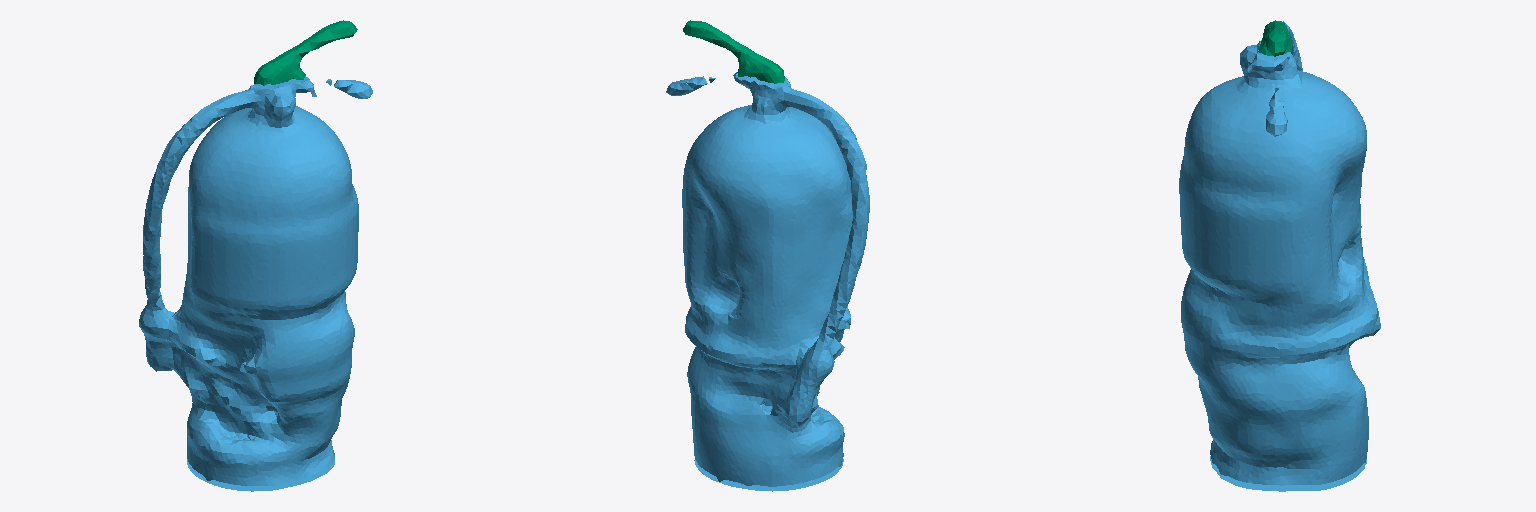
The robot description file, URDF, robot "object":
<?xml version='1.0' encoding='utf-8'?>
<robot name="object">
  <link name="base">
    <inertial>
      <origin xyz="0 0 0" rpy="0 0 0" />
      <mass value="0.0" />
      <inertia ixx="0" ixy="0" ixz="0" iyy="0" iyz="0" izz="0" />
    </inertial>
  </link>
  <link name="link_1">
    <visual>
      <origin xyz="0 0 0" rpy="0 0 0" />
      <geometry>
        <mesh filename="meshes/link_1.stl" />
      </geometry>
    </visual>
    <collision>
      <origin xyz="0 0 0" rpy="0 0 0" />
      <geometry>
        <mesh filename="meshes/link_1.stl" />
      </geometry>
    </collision>
    <inertial>
      <origin xyz="0.0103458504 -0.0473929552 0.726105831" rpy="0 0 0" />
      <mass value="354.952542" />
      <inertia ixx="-35.5537213" ixy="0.653095199" ixz="2.40081813" iyy="-34.6507365" iyz="2.27474612" izz="15.9813725" />
    </inertial>
  </link>
  <link name="link_2">
    <visual>
      <origin xyz="-0.0545027212 0.0553680067 -1.54244994" rpy="0 0 0" />
      <geometry>
        <mesh filename="meshes/link_2.stl" />
      </geometry>
    </visual>
    <collision>
      <origin xyz="-0.0545027212 0.0553680067 -1.54244994" rpy="0 0 0" />
      <geometry>
        <mesh filename="meshes/link_2.stl" />
      </geometry>
    </collision>
    <inertial>
      <origin xyz="0.0843133724 0.00524980527 26.6081391" rpy="0 0 0" />
      <mass value="1.48514383" />
      <inertia ixx="-89388487.7" ixy="-0.000204116176" ixz="948.75874" iyy="-89388487.7" iyz="-14.7139268" izz="0.0193824242" />
    </inertial>
  </link>
  <joint name="joint_1_2" type="revolute">
    <parent link="link_1" />
    <child link="link_2" />
    <origin xyz="0.0545027212 -0.0553680067 1.54244994" rpy="0 0 0" />
    <axis xyz="0.0138476145 -0.999891787 0.00496567636" />
    <limit lower="-1.57" upper="1.57" effort="10.0" velocity="1.0" />
  </joint>
  <joint name="base_to_1" type="fixed">
    <parent link="base" />
    <child link="link_1" />
    <origin xyz="0 0 0" rpy="0 0 0" />
  </joint>
</robot>

--- Render facts (derived) ---
The picture shows the robot from 3 angles, left to right: view 1: azimuth 30°, elevation 25°; view 2: azimuth 150°, elevation 25°; view 3: azimuth 270°, elevation 25°; orthographic projection.
Model object with 3 links and 2 joints (1 revolute, 1 fixed), rooted at base, posed all joints at 0.
Visible links, largest first — view 1: link_1, link_2; view 2: link_1, link_2; view 3: link_1, link_2.
Link boxes in pixels (x1,y1,x2,y2): link_1: (139, 76, 372, 491); link_2: (254, 20, 357, 85); link_1: (666, 72, 869, 491); link_2: (683, 20, 784, 83); link_1: (1179, 21, 1380, 491); link_2: (1258, 20, 1291, 56).
Size in the robot's own frame: 0.9041 by 0.6694 by 1.71 metres.
Meshes: 2 distinct files referenced, 2 mesh visuals loaded (2 binary STL).
